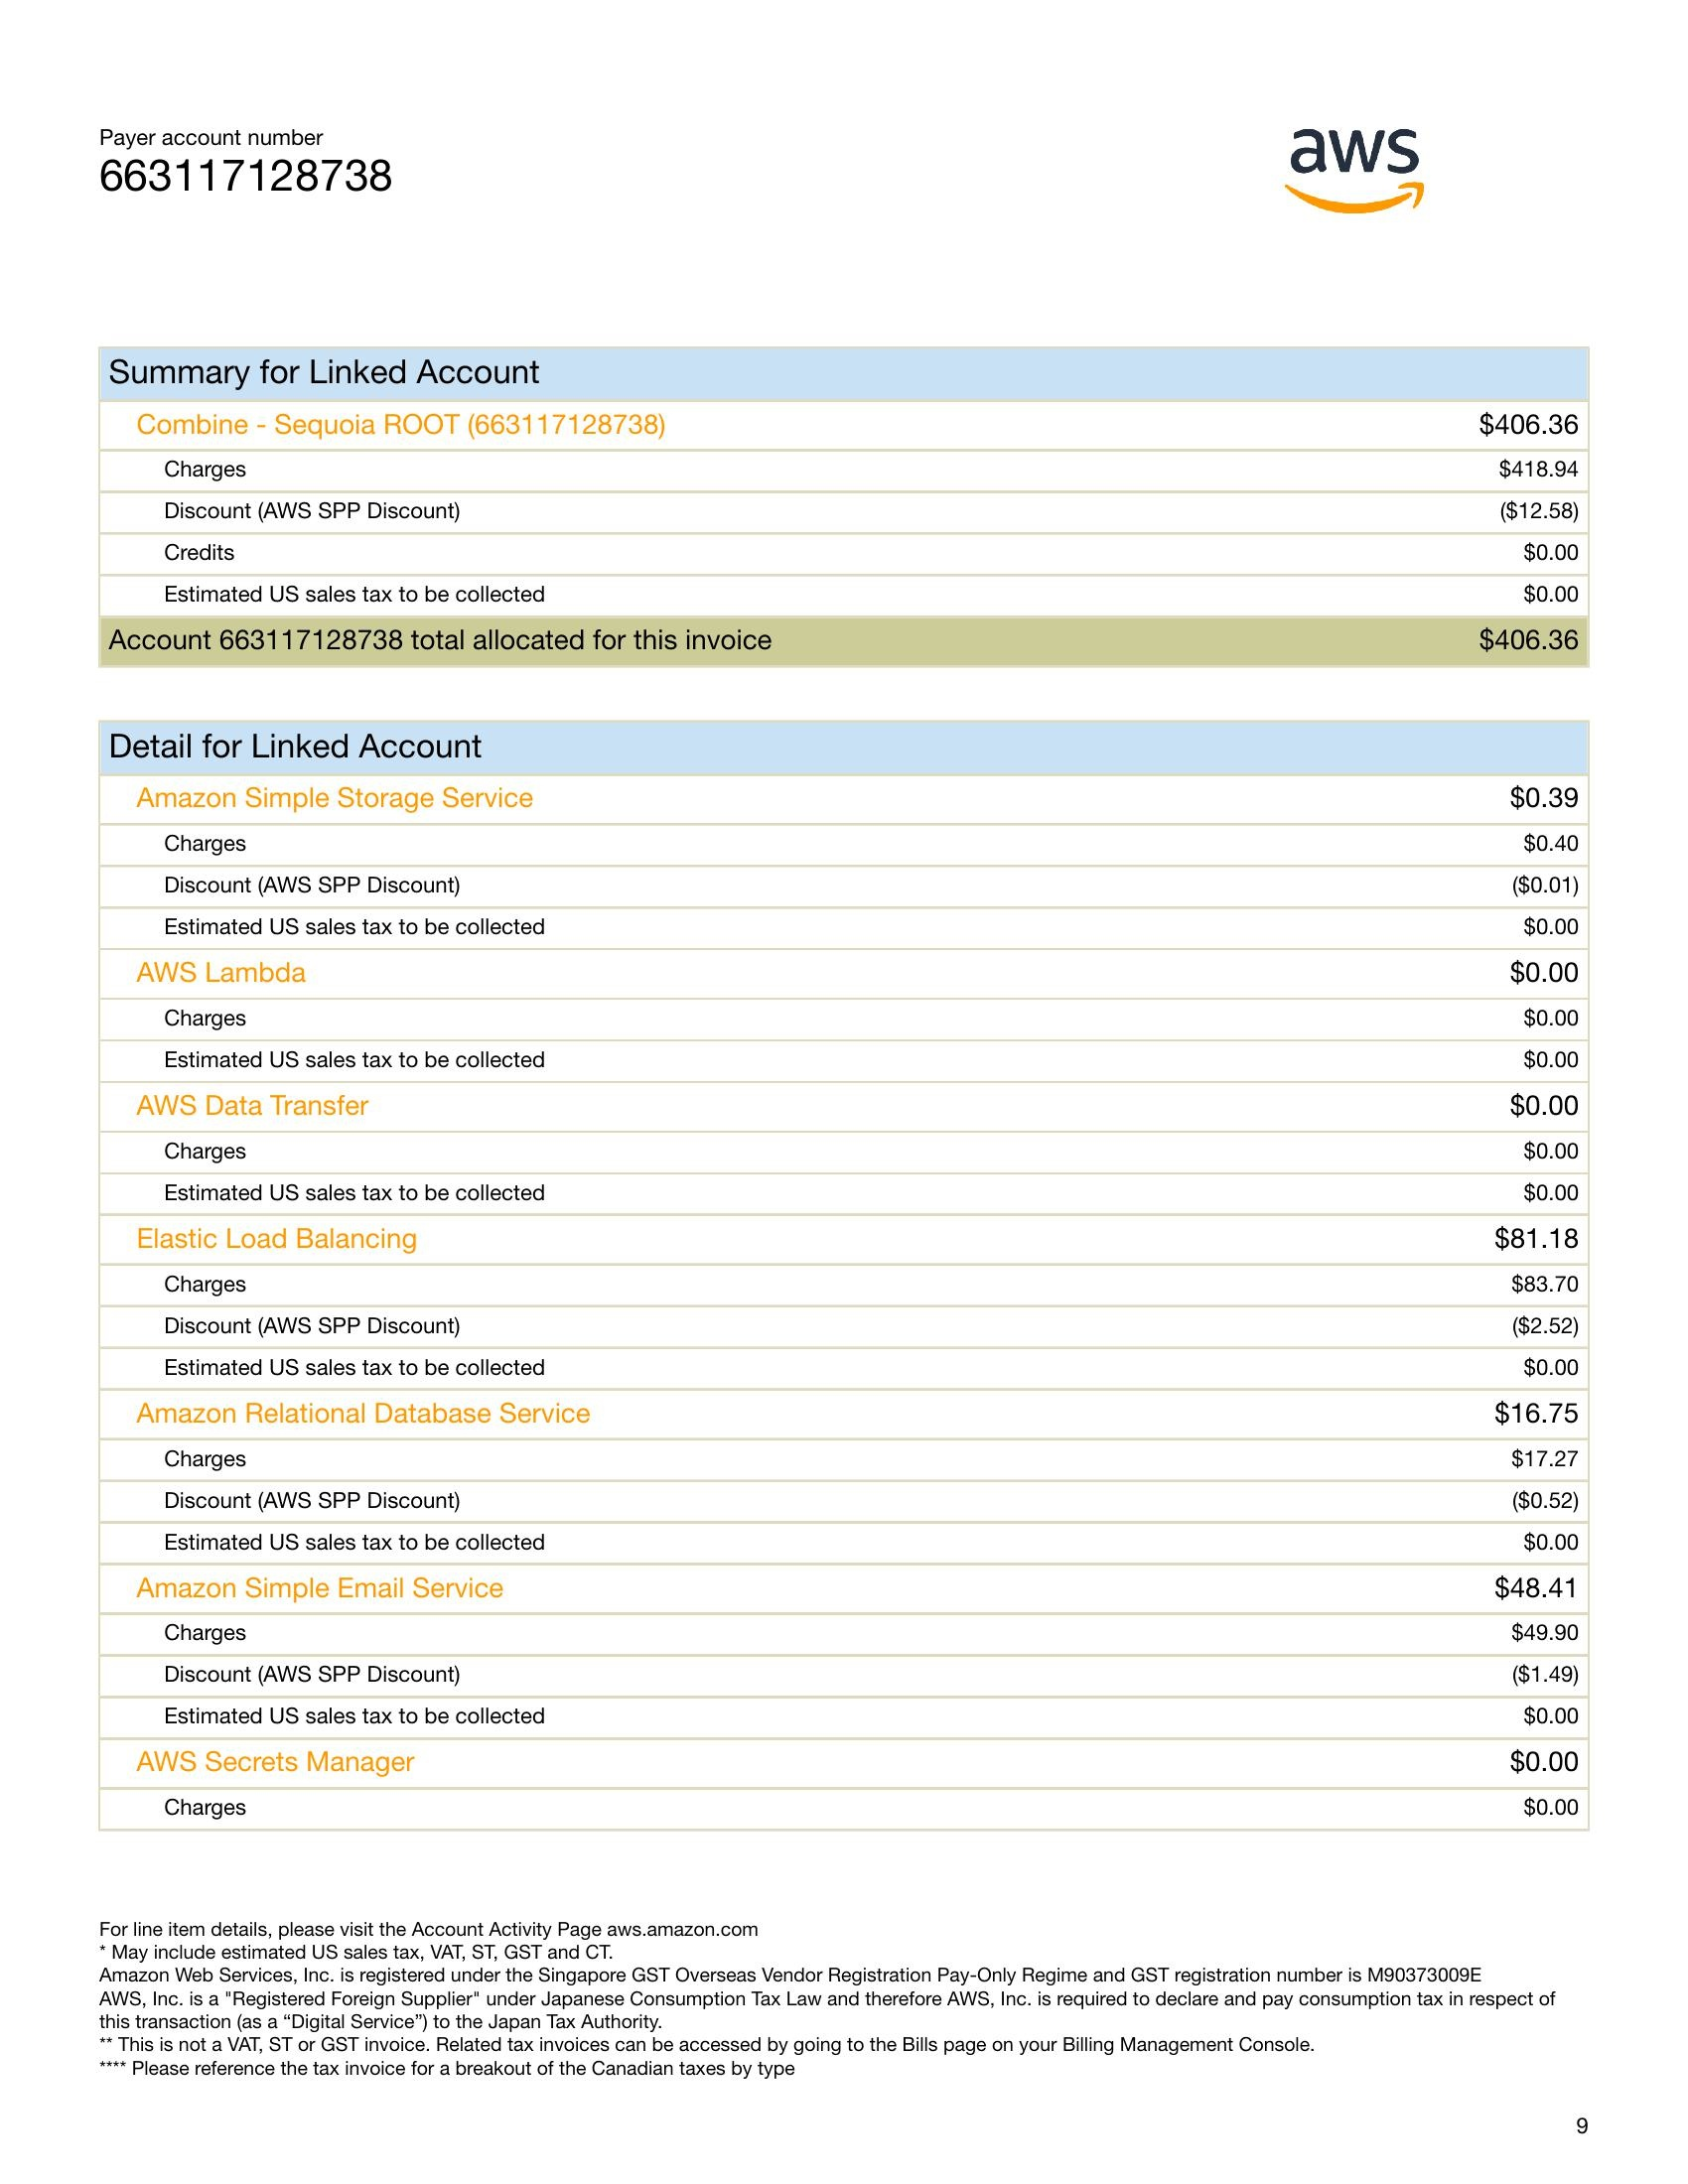table: (96, 721, 1619, 1831), (87, 335, 1612, 661)
